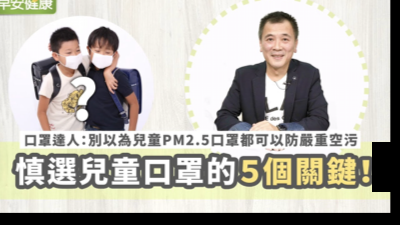with_mask: (90, 44, 114, 69), (60, 45, 83, 69)
without_mask: (261, 30, 295, 67)
